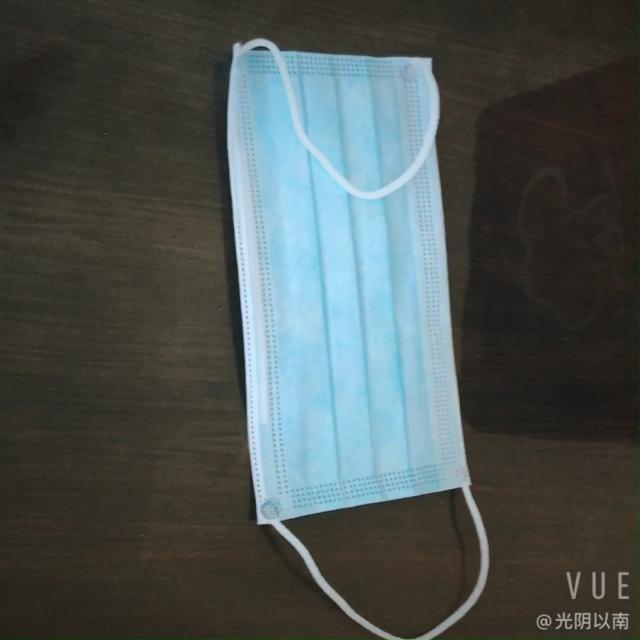face mask: (225, 38, 486, 542)
